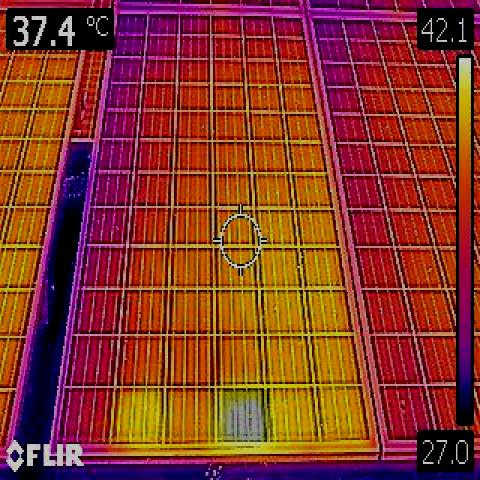fault: (222, 389, 269, 442)
